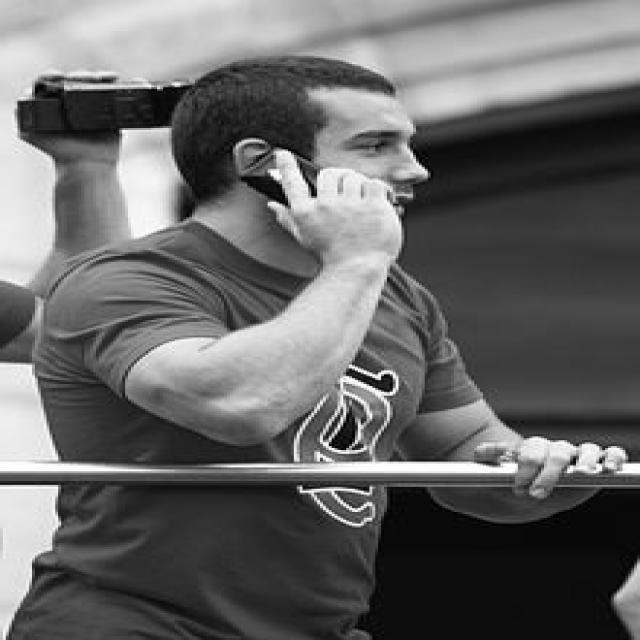phone: (233, 116, 401, 256)
